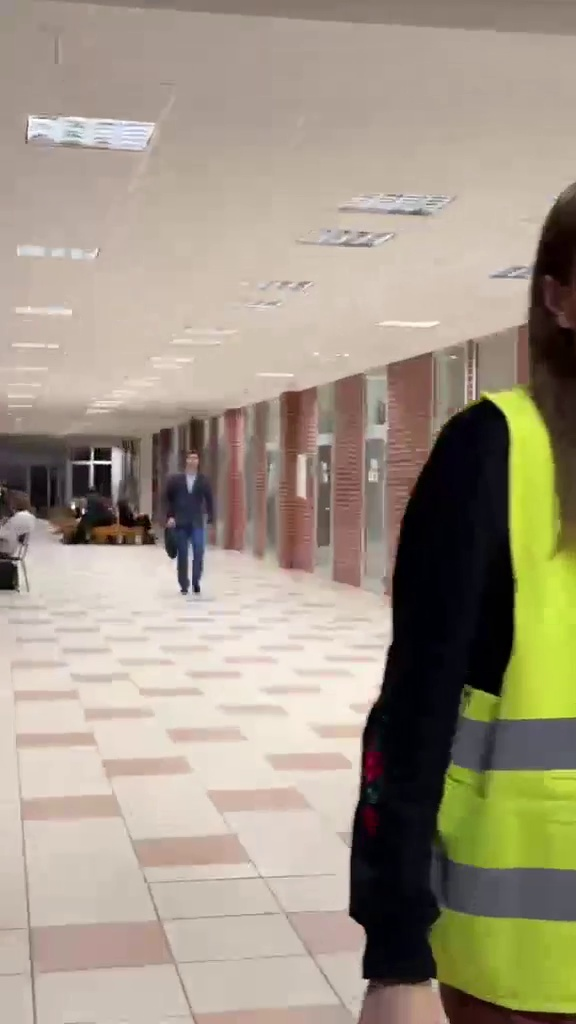no vest: (153, 439, 216, 599)
vest: (351, 177, 576, 1024)
